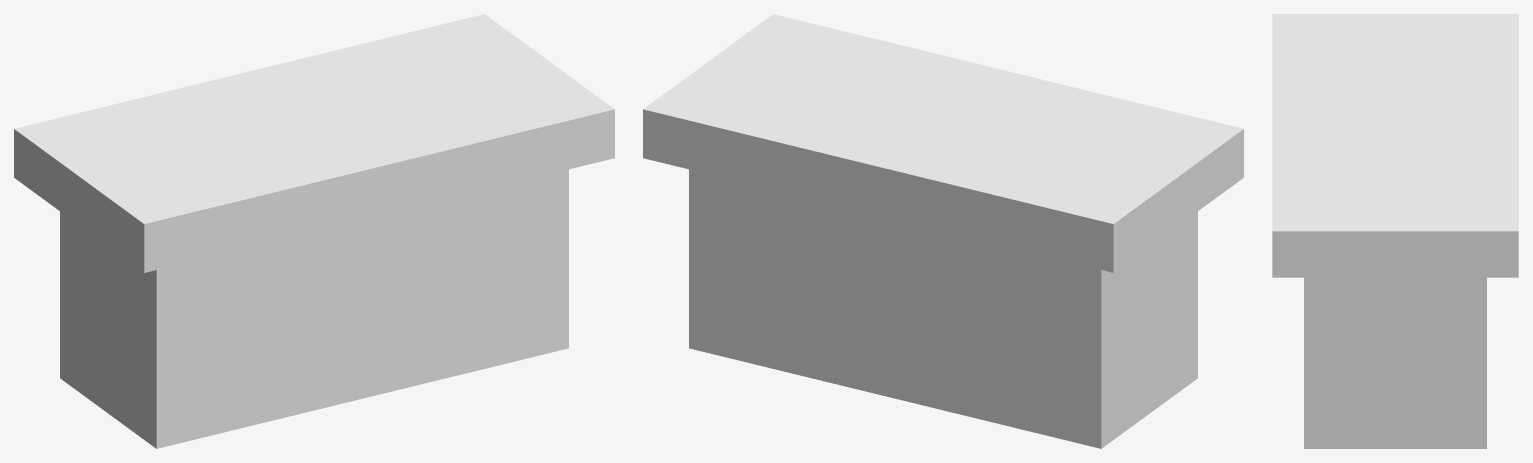
3 renders of one model, left to right at view 1: azimuth 30°, elevation 25°; view 2: azimuth 150°, elevation 25°; view 3: azimuth 270°, elevation 25°, orthographic. The views are drawn at different scales.
Bounding box in the file's own units: 242 × 120 × 116.
1 material, 1 textured.
